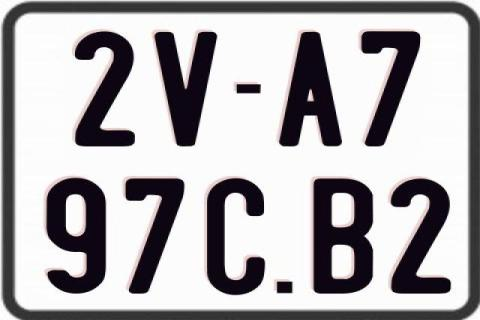0: (390, 176, 456, 293), (72, 30, 137, 146), (123, 177, 186, 296), (43, 175, 107, 292), (360, 31, 421, 149)
A: (278, 32, 346, 150)
B: (314, 177, 374, 292)
C: (207, 177, 268, 295)
V: (151, 30, 216, 146)
